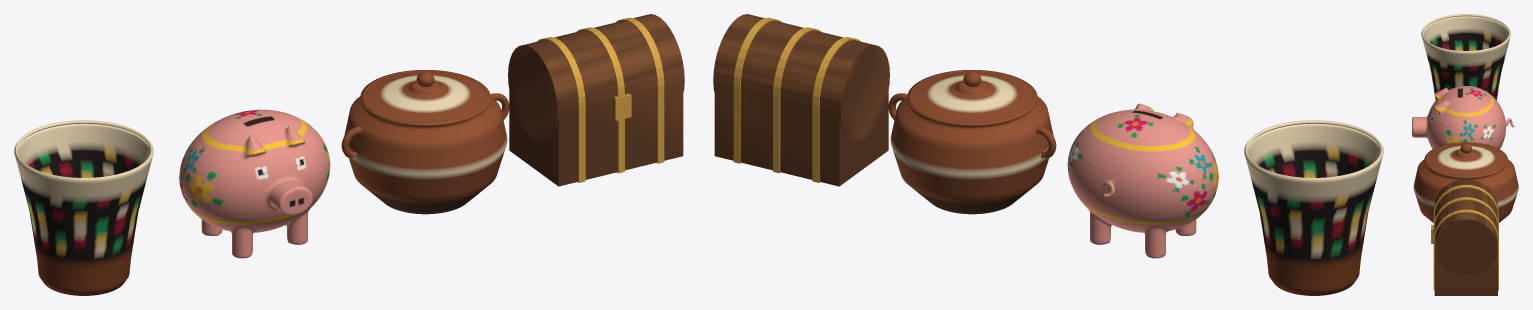
Rendered from vasijas.glb.
3 renders of one model, left to right at view 1: azimuth 30°, elevation 25°; view 2: azimuth 150°, elevation 25°; view 3: azimuth 270°, elevation 25°, orthographic. The views are drawn at different scales.
Parts seen in each view (by area): view 1: vasija_cofre, vasija_olla, vasija_qero, vasija_chanchito; view 2: vasija_cofre, vasija_olla, vasija_qero, vasija_chanchito; view 3: vasija_cofre, vasija_qero, vasija_olla, vasija_chanchito.
Boxes of the visible parts, x1,y1,x2,y2 form: vasija_cofre: [508, 14, 684, 186]; vasija_olla: [341, 70, 509, 214]; vasija_qero: [14, 120, 153, 295]; vasija_chanchito: [179, 109, 330, 258]; vasija_cofre: [713, 14, 889, 186]; vasija_olla: [888, 70, 1056, 214]; vasija_qero: [1244, 120, 1383, 295]; vasija_chanchito: [1067, 103, 1218, 258]; vasija_cofre: [1431, 179, 1498, 295]; vasija_qero: [1421, 14, 1510, 100]; vasija_olla: [1413, 142, 1518, 222]; vasija_chanchito: [1412, 86, 1514, 149].
Bounding box in the file's own units: 9.69 × 1.89 × 2.19.
